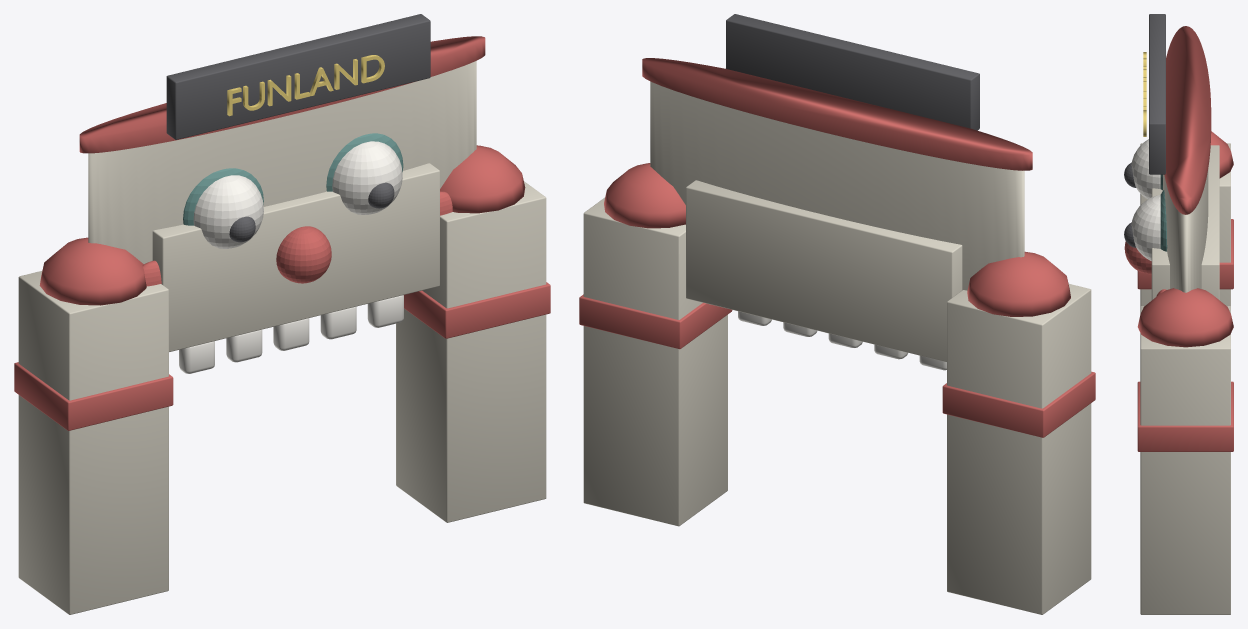
File: arco_ingresso.glb
3 views of the same model, side by side, from view 1: azimuth 30°, elevation 25°; view 2: azimuth 150°, elevation 25°; view 3: azimuth 270°, elevation 25° (orthographic). The views are drawn at different scales.
Visible parts, largest first — view 1: spalla_-1, spalla_1, pannello, COL_architrave, insegna_fondo, cupolino_-1, cornice_top, fascia_-1, fascia_1, cupolino_1, occhio_-1, occhio_1 (+9 smaller); view 2: spalla_-1, spalla_1, pannello, COL_architrave, insegna_fondo, cornice_top, cupolino_-1, fascia_-1, fascia_1, cupolino_1; view 3: spalla_1, cornice_top, cupolino_1, pannello, COL_architrave, fascia_1, insegna_fondo, spalla_-1, occhio_1, occhio_-1, fascia_-1, cupolino_-1 (+5 smaller).
Part boxes in pixels (x1,y1,x2,y2): spalla_-1: (18, 271, 168, 614); spalla_1: (396, 181, 546, 522); pannello: (88, 61, 476, 263); COL_architrave: (152, 163, 439, 351); insegna_fondo: (166, 14, 430, 139); cupolino_-1: (39, 237, 146, 305); cornice_top: (79, 36, 485, 153); fascia_-1: (14, 362, 173, 430); fascia_1: (403, 282, 550, 338); cupolino_1: (440, 145, 525, 213); occhio_-1: (193, 175, 263, 248); occhio_1: (332, 141, 402, 214); spalla_-1: (947, 284, 1091, 614); spalla_1: (583, 197, 727, 526); pannello: (650, 81, 1024, 290); COL_architrave: (686, 180, 962, 361); insegna_fondo: (726, 14, 979, 130); cornice_top: (642, 58, 1032, 170); cupolino_-1: (967, 251, 1070, 316); fascia_-1: (942, 371, 1095, 437); fascia_1: (579, 294, 732, 349); cupolino_1: (604, 163, 685, 228); spalla_1: (1140, 306, 1230, 614); cornice_top: (1164, 26, 1211, 214); cupolino_1: (1137, 288, 1233, 347); pannello: (1163, 169, 1208, 292); COL_architrave: (1151, 145, 1219, 300); fascia_1: (1137, 381, 1233, 451); insegna_fondo: (1149, 14, 1165, 174); spalla_-1: (1140, 143, 1230, 306); occhio_1: (1131, 195, 1160, 260); occhio_-1: (1131, 139, 1160, 199); fascia_-1: (1137, 219, 1233, 289); cupolino_-1: (1210, 131, 1233, 178).
Bounding box in the file's own units: 8.7 × 8.65 × 1.94.
